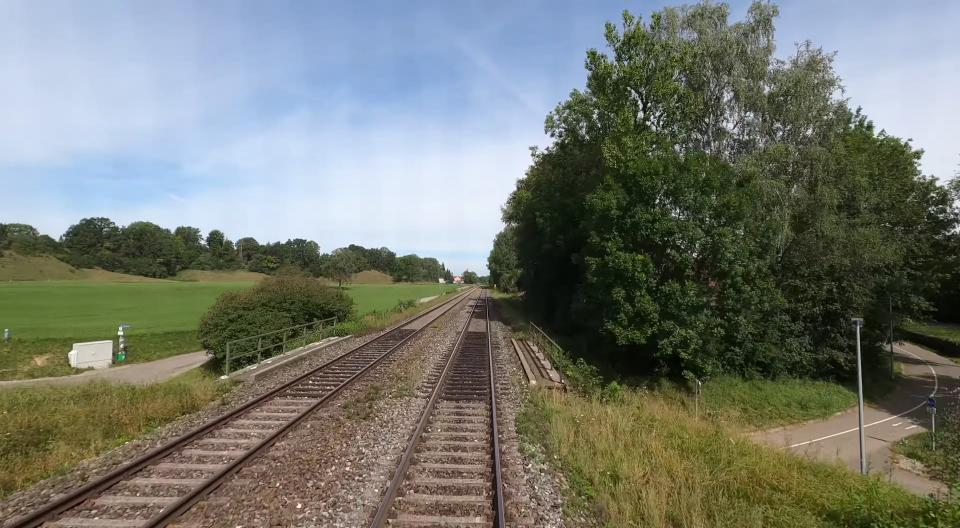Plant: (518, 387, 759, 528), (342, 385, 384, 420), (392, 386, 414, 397)
